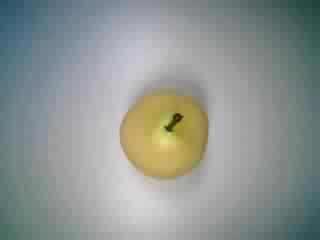pear: (105, 83, 219, 186)
